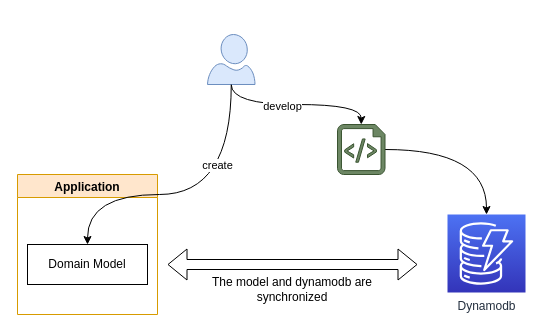
The diagram is 543 pixels wide and 332 high, and some of its shapes have lost their labels. Each missing label, with the centre of its shape:
"Developer" goes at point 230,59.
"script/cfn template" goes at point 360,149.
